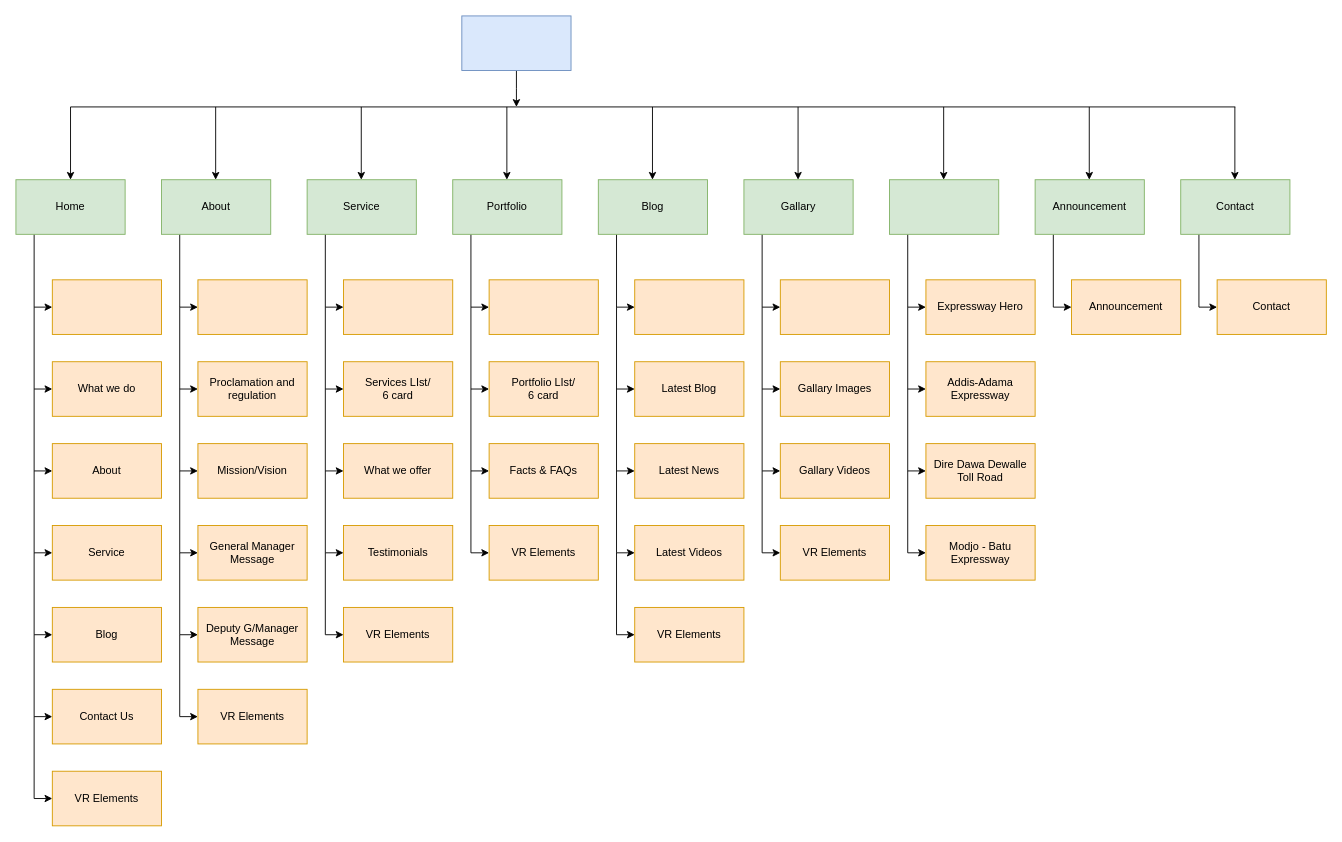
The diagram is 1342 pixels wide and 842 high, and some of its shapes have lost their labels. Each missing label, with the centre of its shape:
"About Hero" goes at [252,306].
"Blog Hero" goes at [689,306].
"ETRE" goes at [516,43].
"Expressway" goes at [944,206].
"Gallary Hero" goes at [834,306].
"Hero" goes at [106,306].
"Portfolio Hero" goes at [543,306].
"Service Hero" goes at [398,306].
